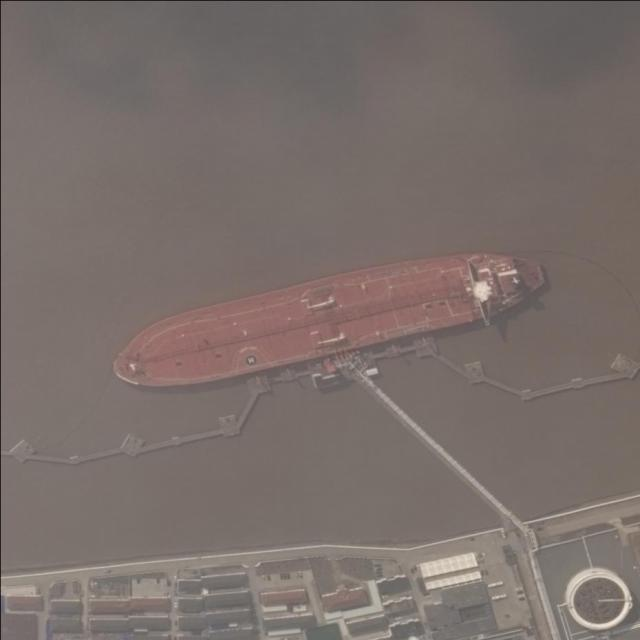Oil Tanker: (106, 232, 551, 401)
